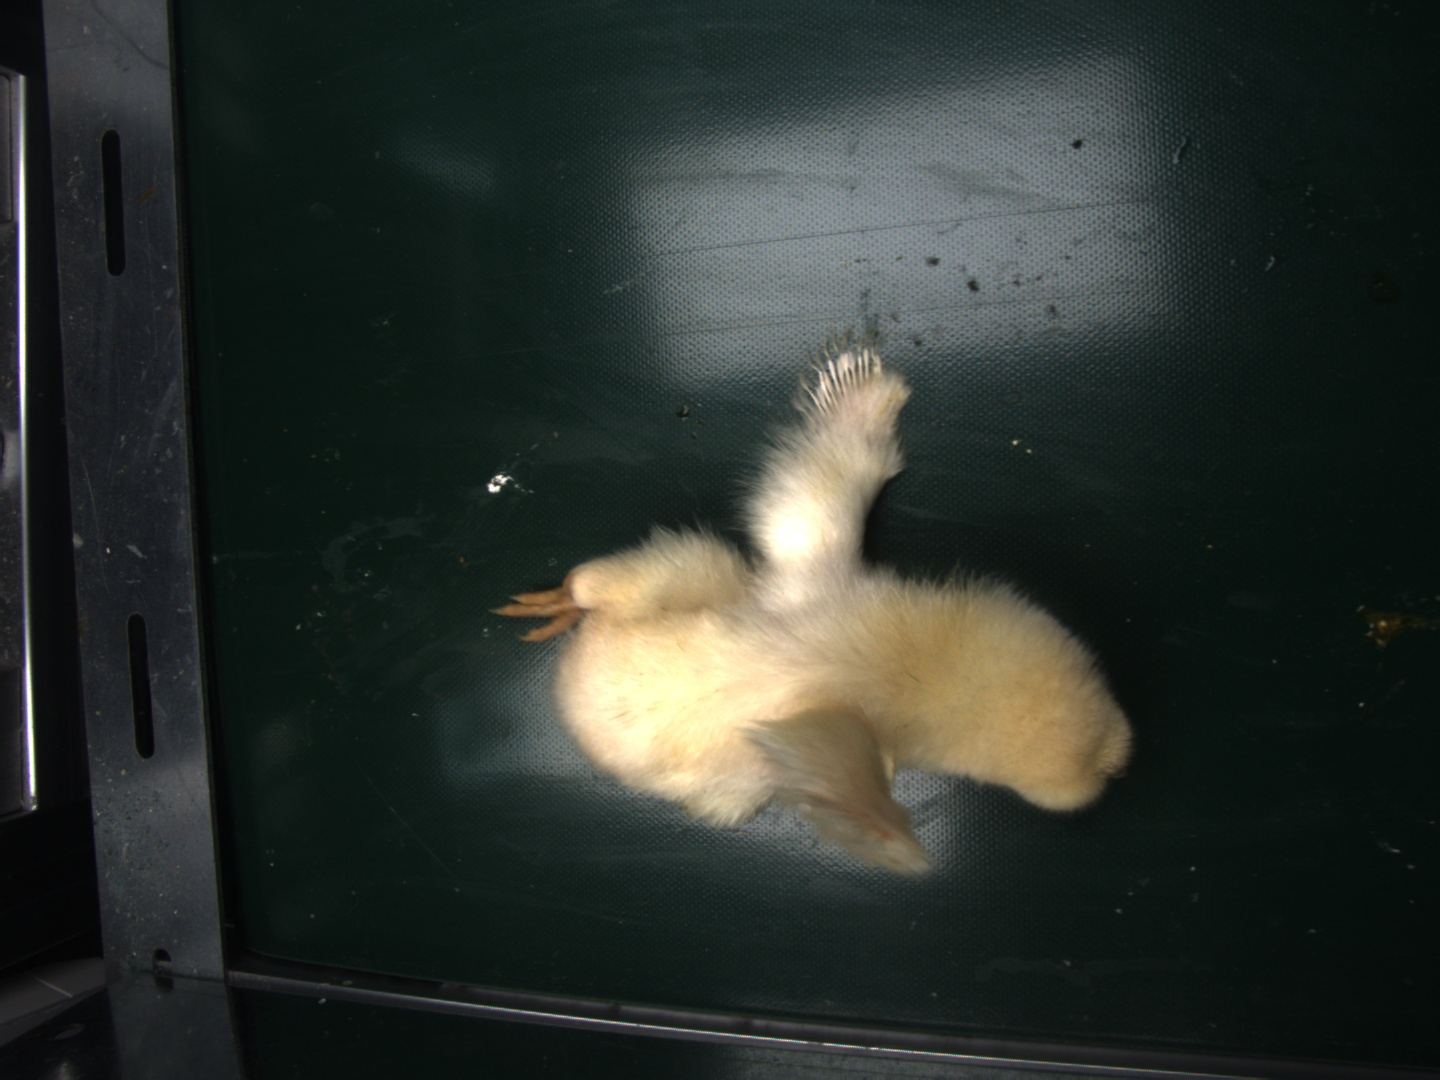male: (807, 346, 883, 419)
